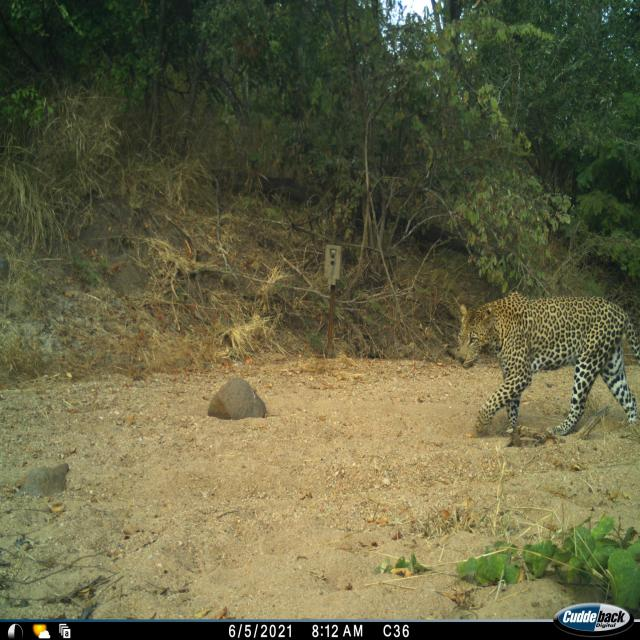Leopard: (463, 268, 640, 452)
